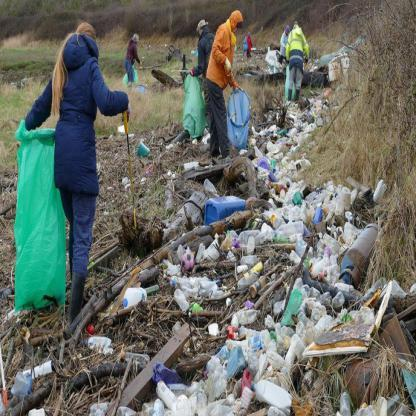Plastic: (338, 223, 380, 276), (209, 341, 247, 386), (283, 282, 308, 332), (156, 381, 190, 415), (202, 195, 244, 220)
